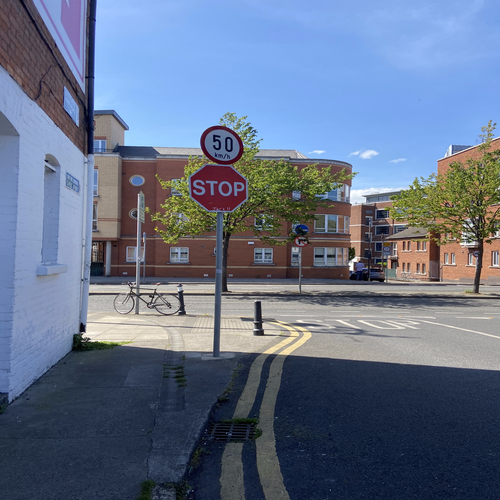Speed Limit: (199, 125, 244, 164)
Stop: (192, 164, 247, 210)
